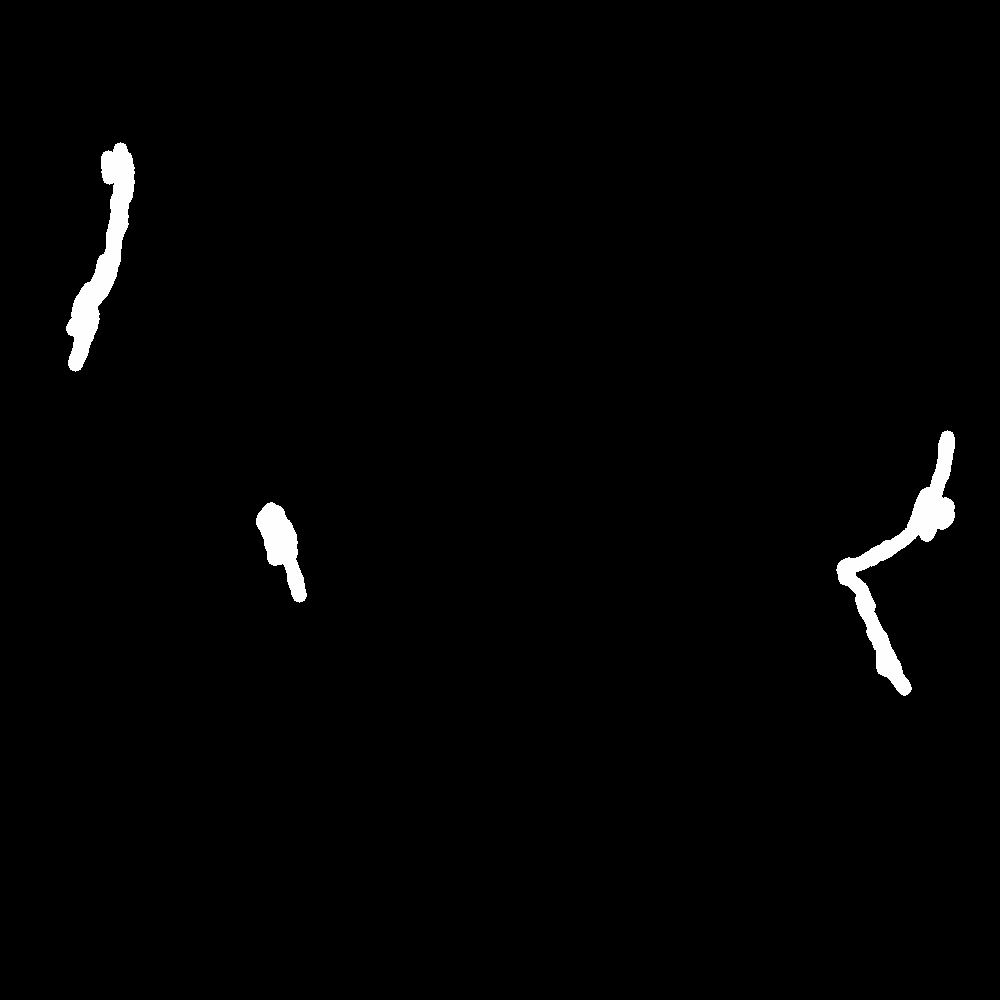illegal: (66, 101, 159, 367), (887, 394, 982, 552), (232, 451, 315, 616), (834, 555, 919, 696)
